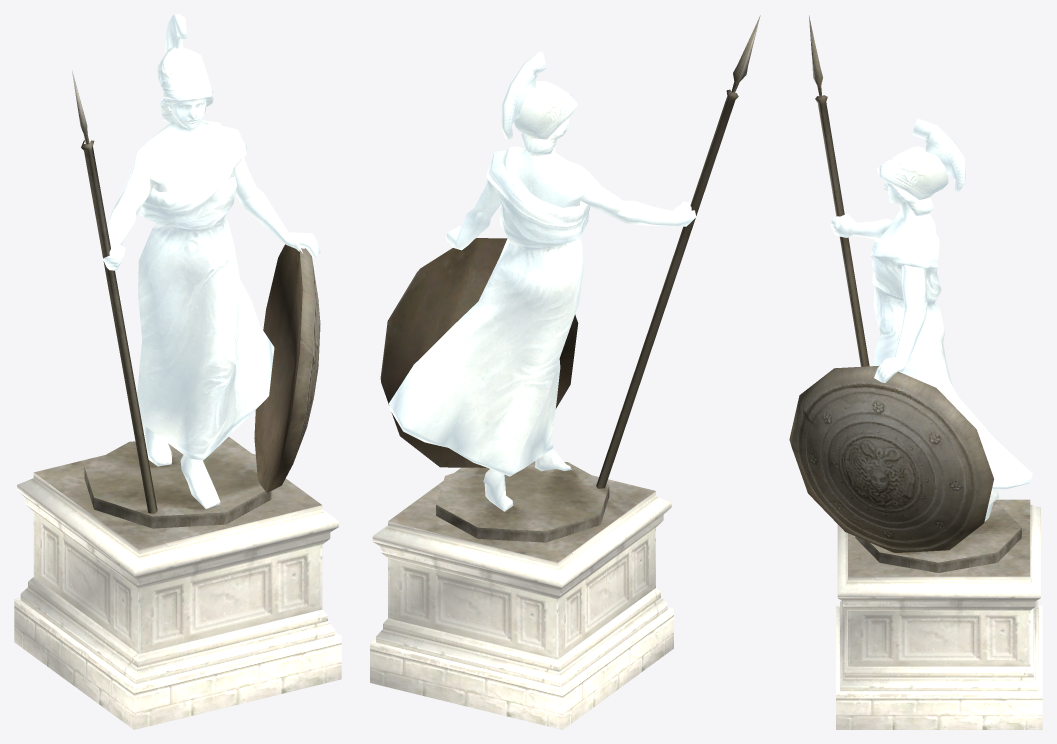
Rendered from jupiter_athena_statue.glb.
3 views of the same model, side by side, from view 1: azimuth 30°, elevation 25°; view 2: azimuth 150°, elevation 25°; view 3: azimuth 270°, elevation 25° (orthographic). The views are drawn at different scales.
Parts seen in each view (by area): view 1: euro_esteuro_upi_atena01_03, euro_esteuro_upi_atena01_01, euro_esteuro_upi_atena01_02; view 2: euro_esteuro_upi_atena01_03, euro_esteuro_upi_atena01_01, euro_esteuro_upi_atena01_02; view 3: euro_esteuro_upi_atena01_02, euro_esteuro_upi_atena01_03, euro_esteuro_upi_atena01_01.
Part boxes in pixels (x1,y1,x2,y2): euro_esteuro_upi_atena01_03: (14,473,341,729); euro_esteuro_upi_atena01_01: (103,14,320,509); euro_esteuro_upi_atena01_02: (34,70,321,549); euro_esteuro_upi_atena01_03: (370,491,673,729); euro_esteuro_upi_atena01_01: (389,51,696,511); euro_esteuro_upi_atena01_02: (380,15,760,562); euro_esteuro_upi_atena01_02: (789,15,1030,576); euro_esteuro_upi_atena01_03: (836,504,1042,729); euro_esteuro_upi_atena01_01: (830,118,1032,521).
Bounding box in the file's own units: 26.53 × 56.3 × 21.68.
Materials: 3 (3 with a texture image).
